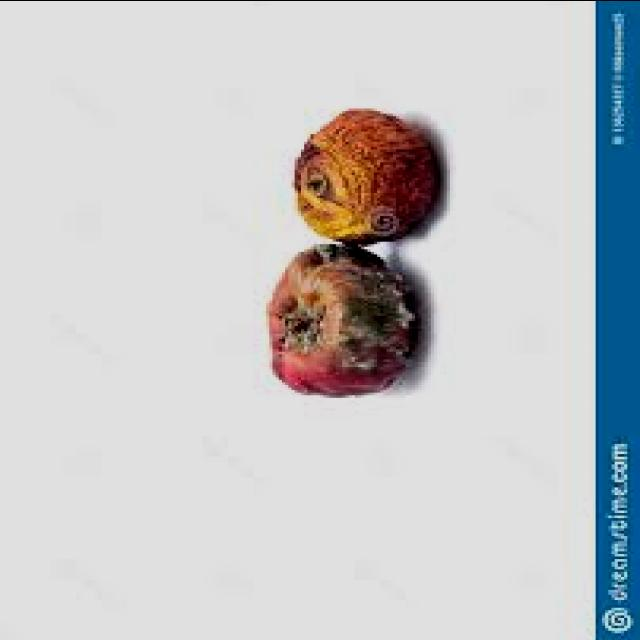organic: (250, 59, 499, 412)
